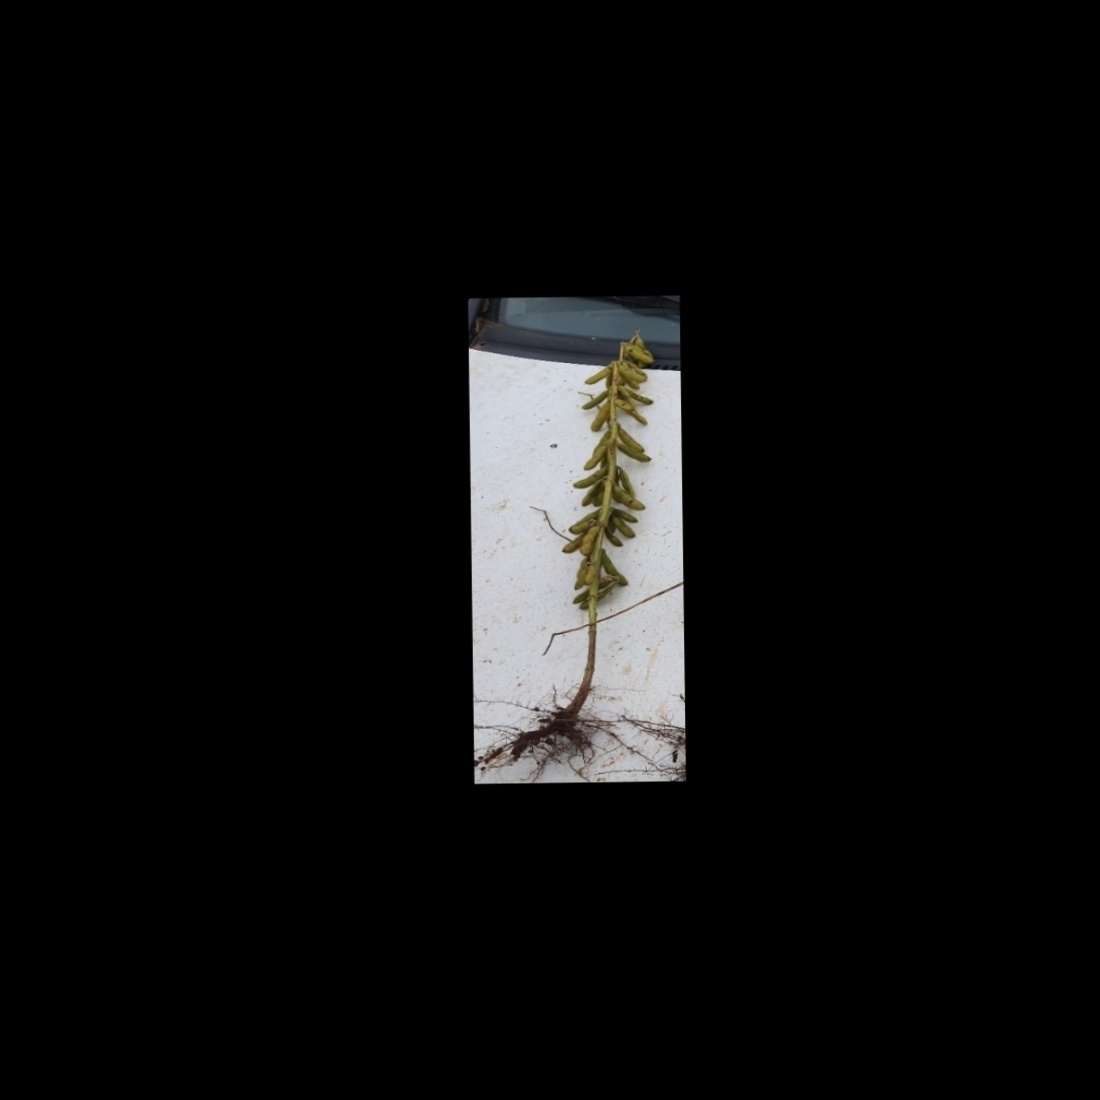pod: (602, 548, 630, 587), (589, 401, 612, 436), (579, 365, 612, 385), (581, 524, 602, 555), (582, 446, 607, 471), (602, 527, 623, 548)
soy: (499, 325, 680, 759)
